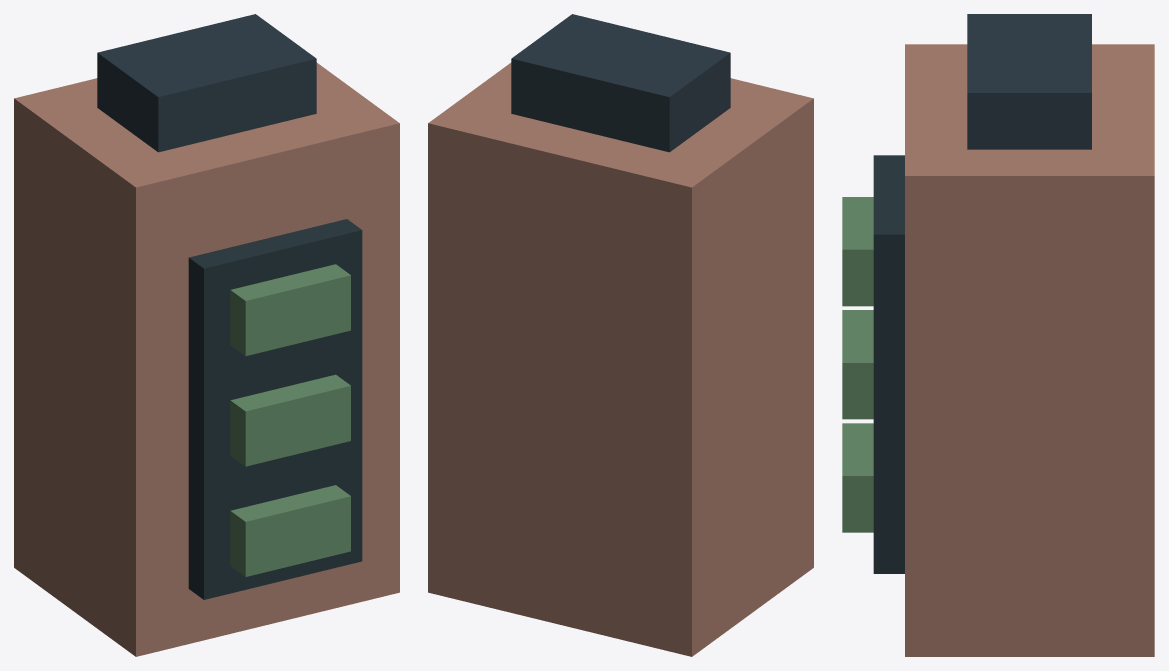
The model's file is automotive-11.glb.
The picture shows the model from 3 angles, left to right: view 1: azimuth 30°, elevation 25°; view 2: azimuth 150°, elevation 25°; view 3: azimuth 270°, elevation 25°; orthographic projection. The views are drawn at different scales.
Visible parts, largest first — view 1: Battery pack; view 2: Battery pack; view 3: Battery pack.
Part boxes in pixels (x1,y1,x2,y2): Battery pack: (14,14,399,656); Battery pack: (428,14,813,656); Battery pack: (842,14,1154,656).
Bounding box in the file's own units: 0.8 × 1.52 × 0.8.
